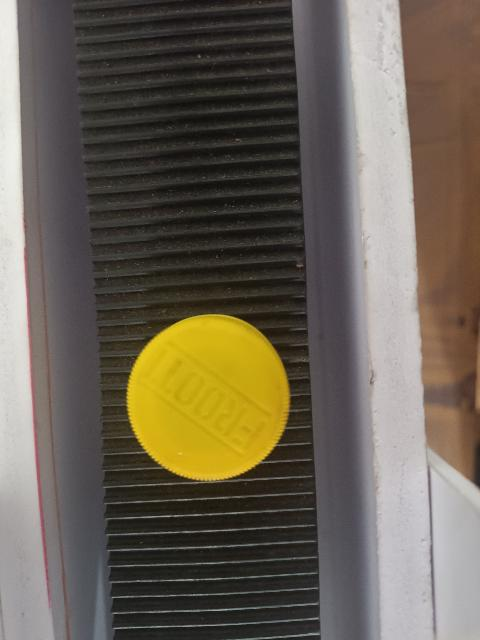bottlecap: (127, 312, 293, 478)
